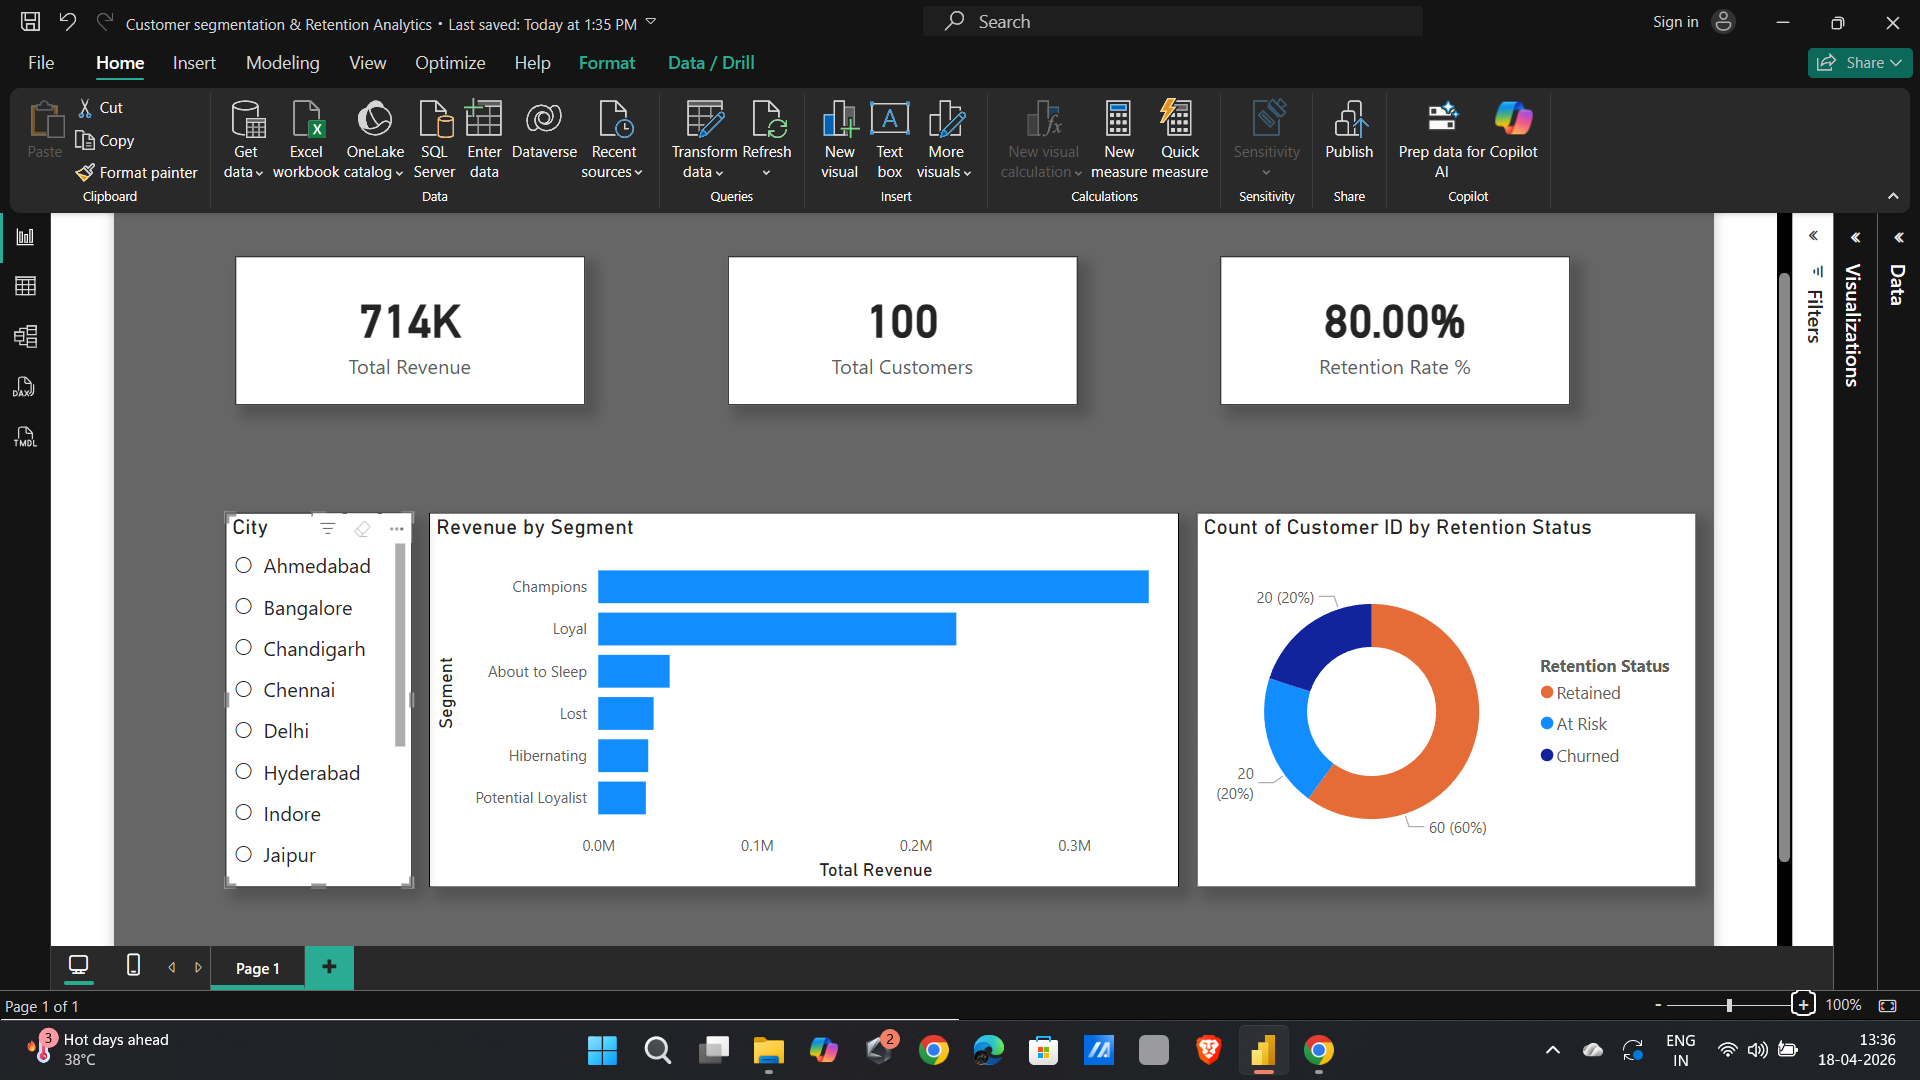

The page's visual inventory and layout, read from the dashboard file:
{"tool":"powerbi","page":{"name":"Page 1","canvas":[1280,720],"ordinal":0},"visuals":[{"type":"card","fields":{"Values":["Sheet1.Total Revenue"]},"box":[97.4,85.1,279.9,119.4],"z":0},{"type":"card","fields":{"Values":["Sheet1.Total Customers"]},"box":[491.3,85.1,279.9,119.4],"z":1000},{"type":"card","fields":{"Values":["Sheet1.Retention Rate %"]},"box":[885.1,85.1,279.9,119.4],"z":2000},{"type":"clusteredBarChart","title":"Revenue by Segment","fields":{"Category":["Sheet1.Segment"],"Y":["Sheet1.Total Revenue"]},"box":[252.5,289.5,599.7,300.5],"z":3000},{"type":"donutChart","fields":{"Category":["Sheet1.Retention Status"],"Y":["CountNonNull(Sheet1.Customer ID)"]},"box":[866.3,289.6,400,300.6],"z":4000},{"type":"listSlicer","fields":{"Values":["Sheet1.City"]},"box":[89.2,289.5,149.6,300.5],"z":5000}]}

Visuals, with their boxes on the page's 1280x720 design canvas (x1, y1, x2, y2). These are canvas units, not pixel positions in the 1920x1080 screenshot, which may show the page scaled, cropped or inside an application window:
card - Sheet1.Total Revenue: 97:85:377:204
card - Sheet1.Total Customers: 491:85:771:204
card - Sheet1.Retention Rate %: 885:85:1165:204
"Revenue by Segment" clusteredBarChart: 252:290:852:590
donutChart - Sheet1.Retention Status x CountNonNull(Sheet1.Customer ID): 866:290:1266:590
listSlicer - Sheet1.City: 89:290:239:590
